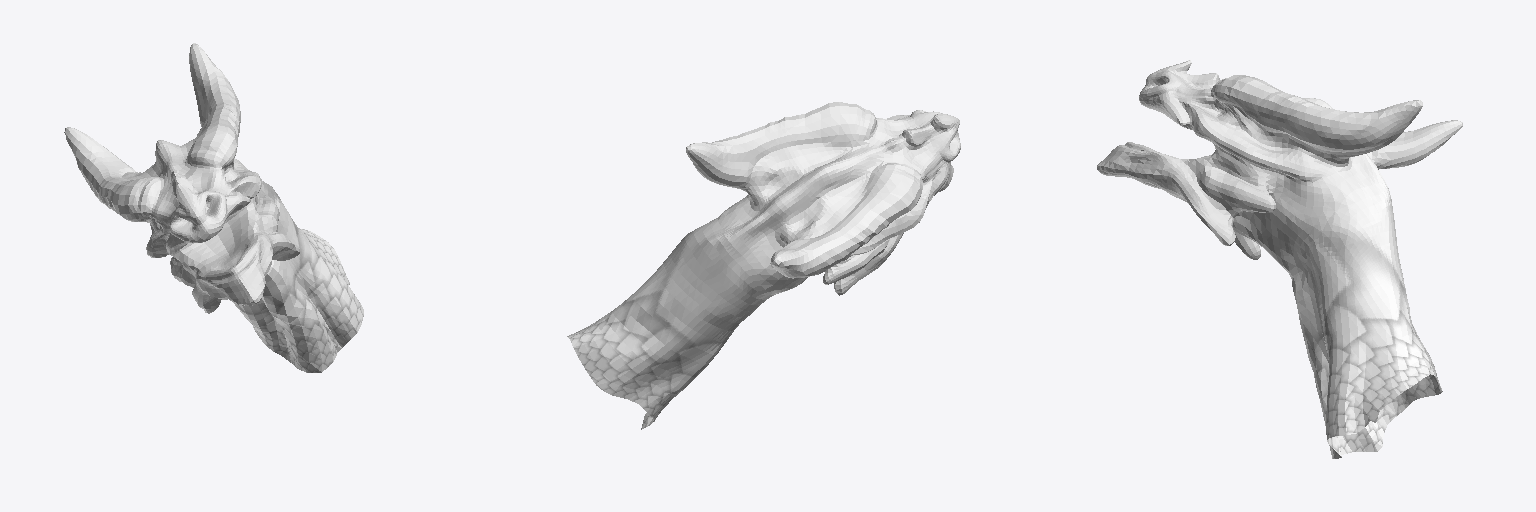
3 views of the same model, side by side, from view 1: azimuth 30°, elevation 25°; view 2: azimuth 150°, elevation 25°; view 3: azimuth 270°, elevation 25° (orthographic).
Visible parts, largest first — view 1: CabezaBlanca; view 2: CabezaBlanca; view 3: CabezaBlanca.
Boxes of the visible parts, <box> form: CabezaBlanca: <box>64,43,363,372</box>; CabezaBlanca: <box>567,102,960,429</box>; CabezaBlanca: <box>1097,60,1462,458</box>.
Size of the model in its own units: 1.97 by 2.11 by 2.2.
1 materials, 1 textured.